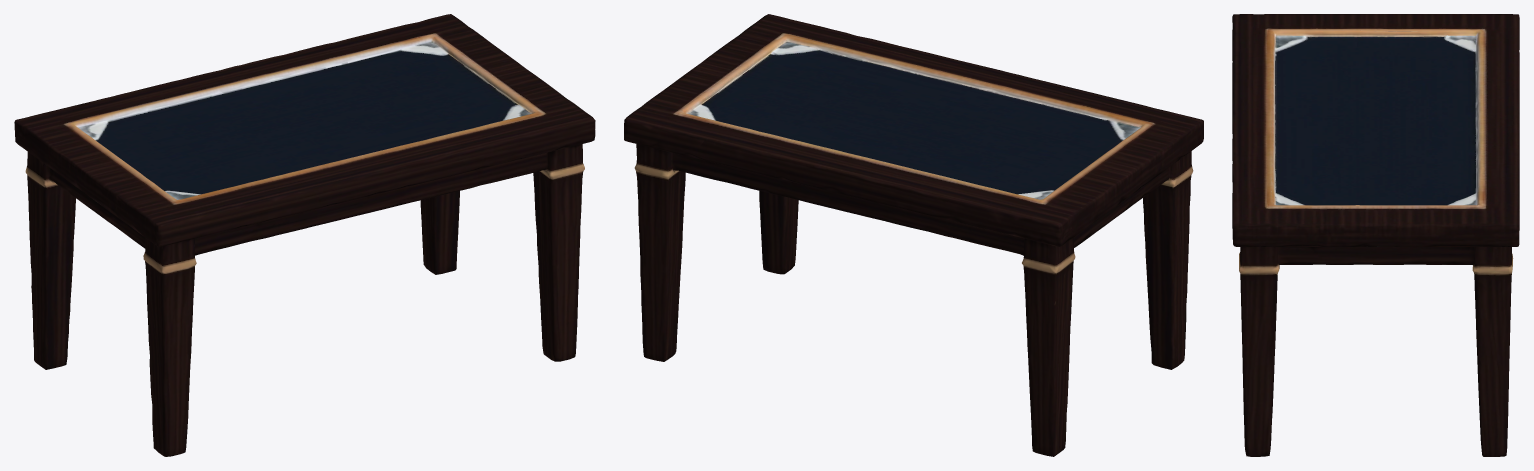
The model's file is prestigious-table.glb.
The picture shows the model from 3 angles, left to right: view 1: azimuth 30°, elevation 25°; view 2: azimuth 150°, elevation 25°; view 3: azimuth 270°, elevation 25°; orthographic projection.
Visible parts, largest first — view 1: world; view 2: world; view 3: world.
Boxes of the visible parts, x1,y1,x2,y2 form: world: (14, 14, 595, 456); world: (624, 14, 1203, 456); world: (1232, 14, 1519, 456).
Bounding box in the file's own units: 1 × 0.5319 × 0.5755.
1 material, 1 textured.
